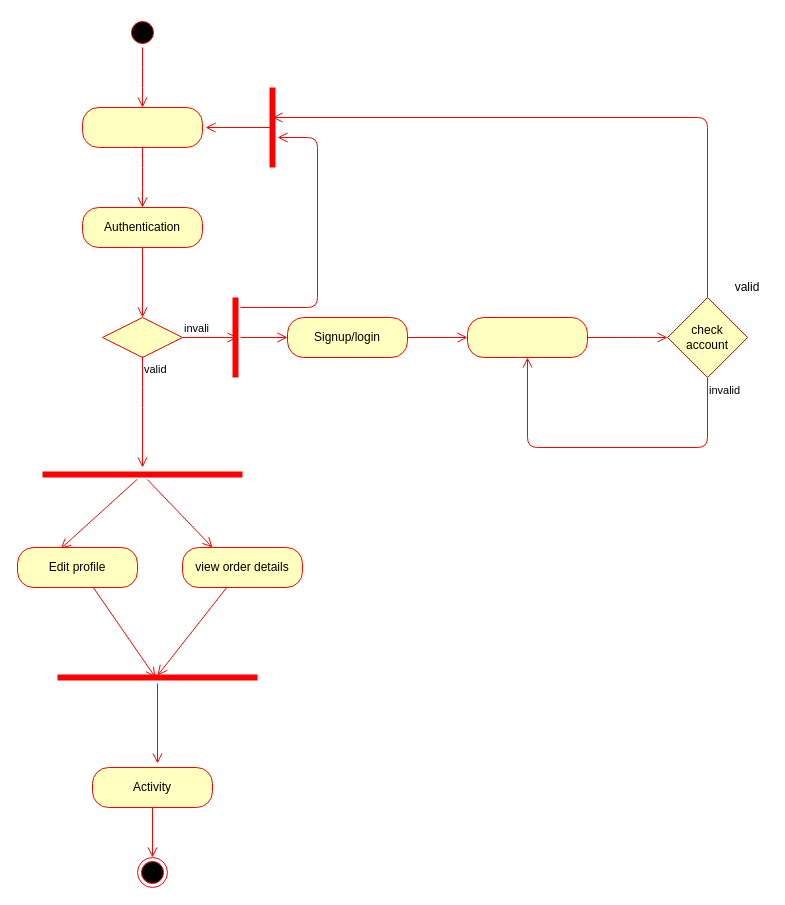
Image size: 785x905. Some labels were removed from this diagram. Here are the shapes that lost their labels. From the top down, the box of each, then its label:
(82, 106, 202, 148): login
(102, 316, 182, 358): Check
(466, 316, 588, 358): signup
